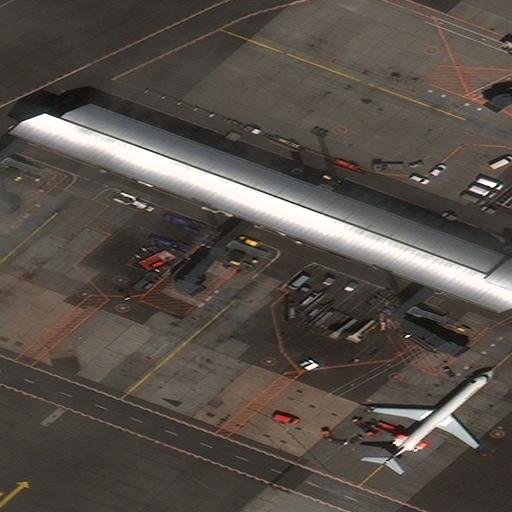Medium Civil Transport: (369, 367, 493, 467)
